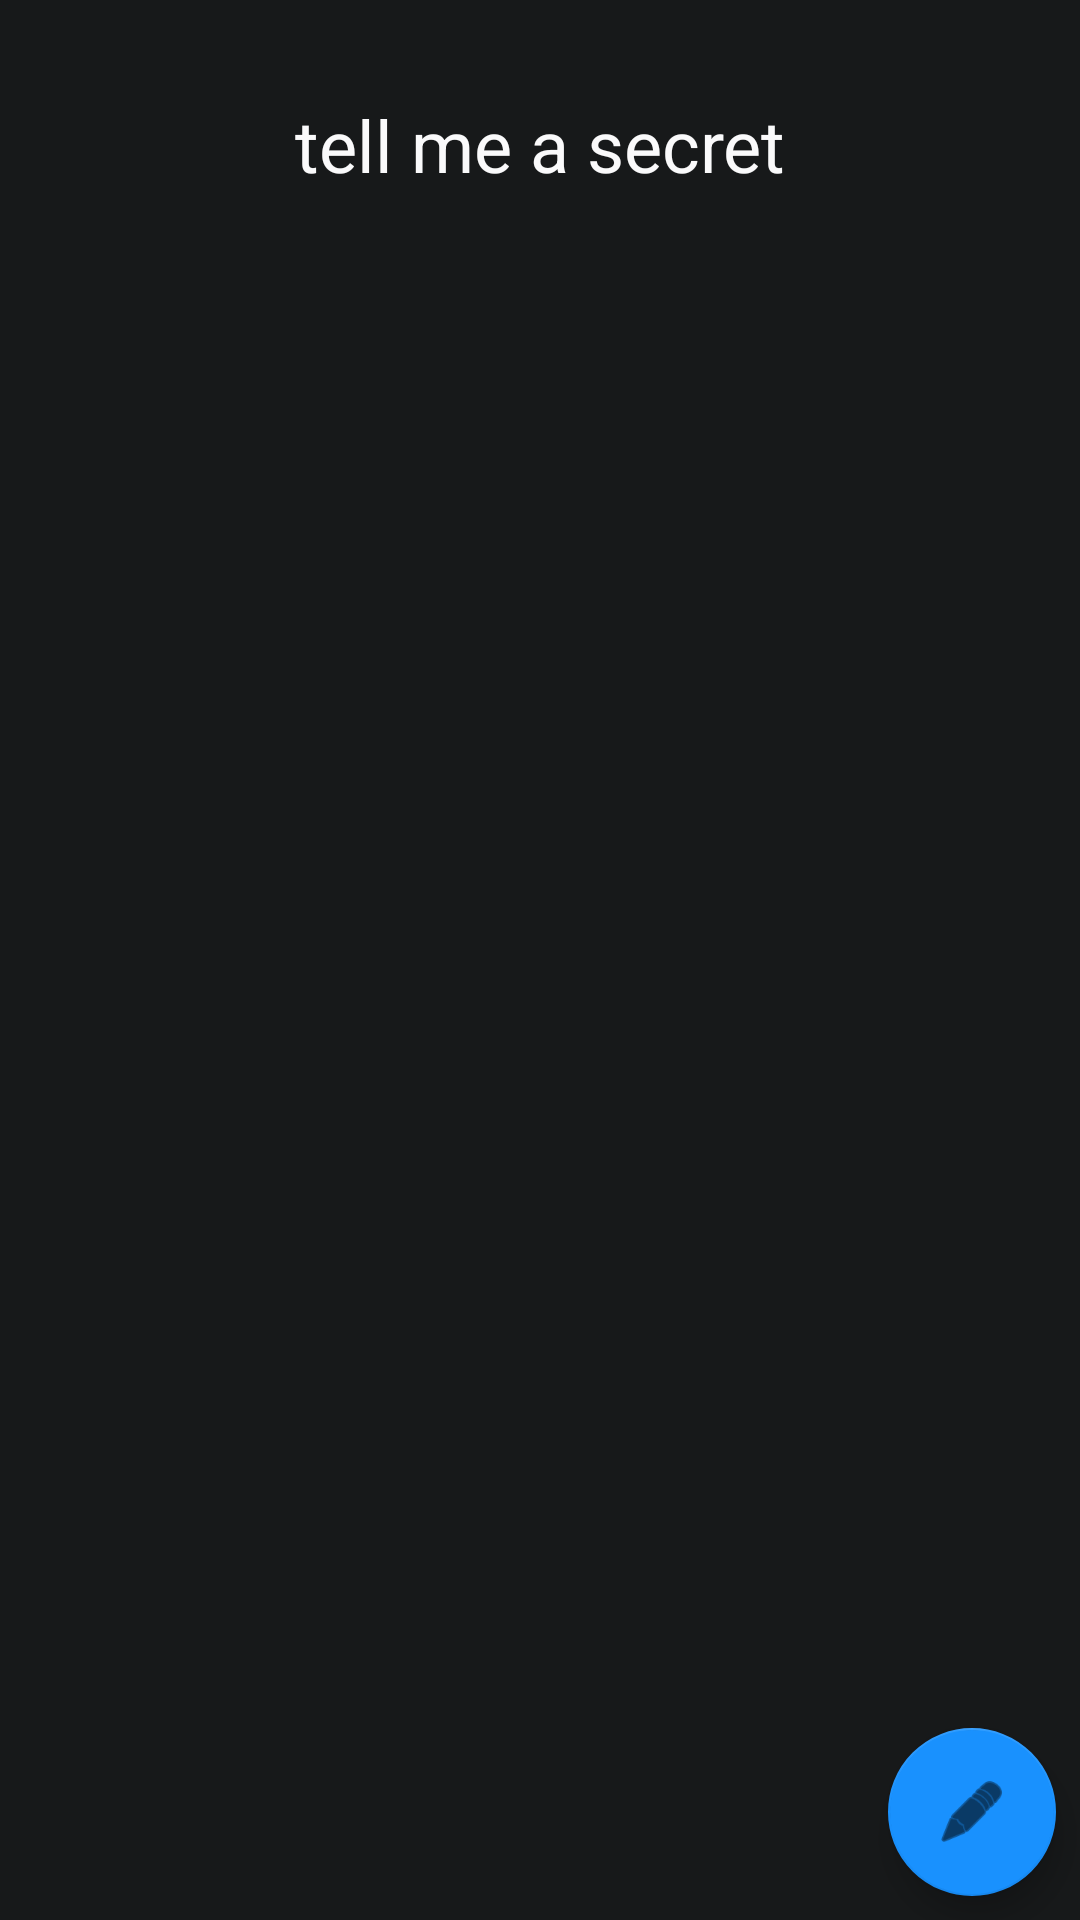

Locate icon controls on the screen. Image size 1080×1920, boxes as (x1=x1, y1=y1, x2=x2, y2=y2).
edit: (x1=888, y1=1728, x2=1056, y2=1896)
